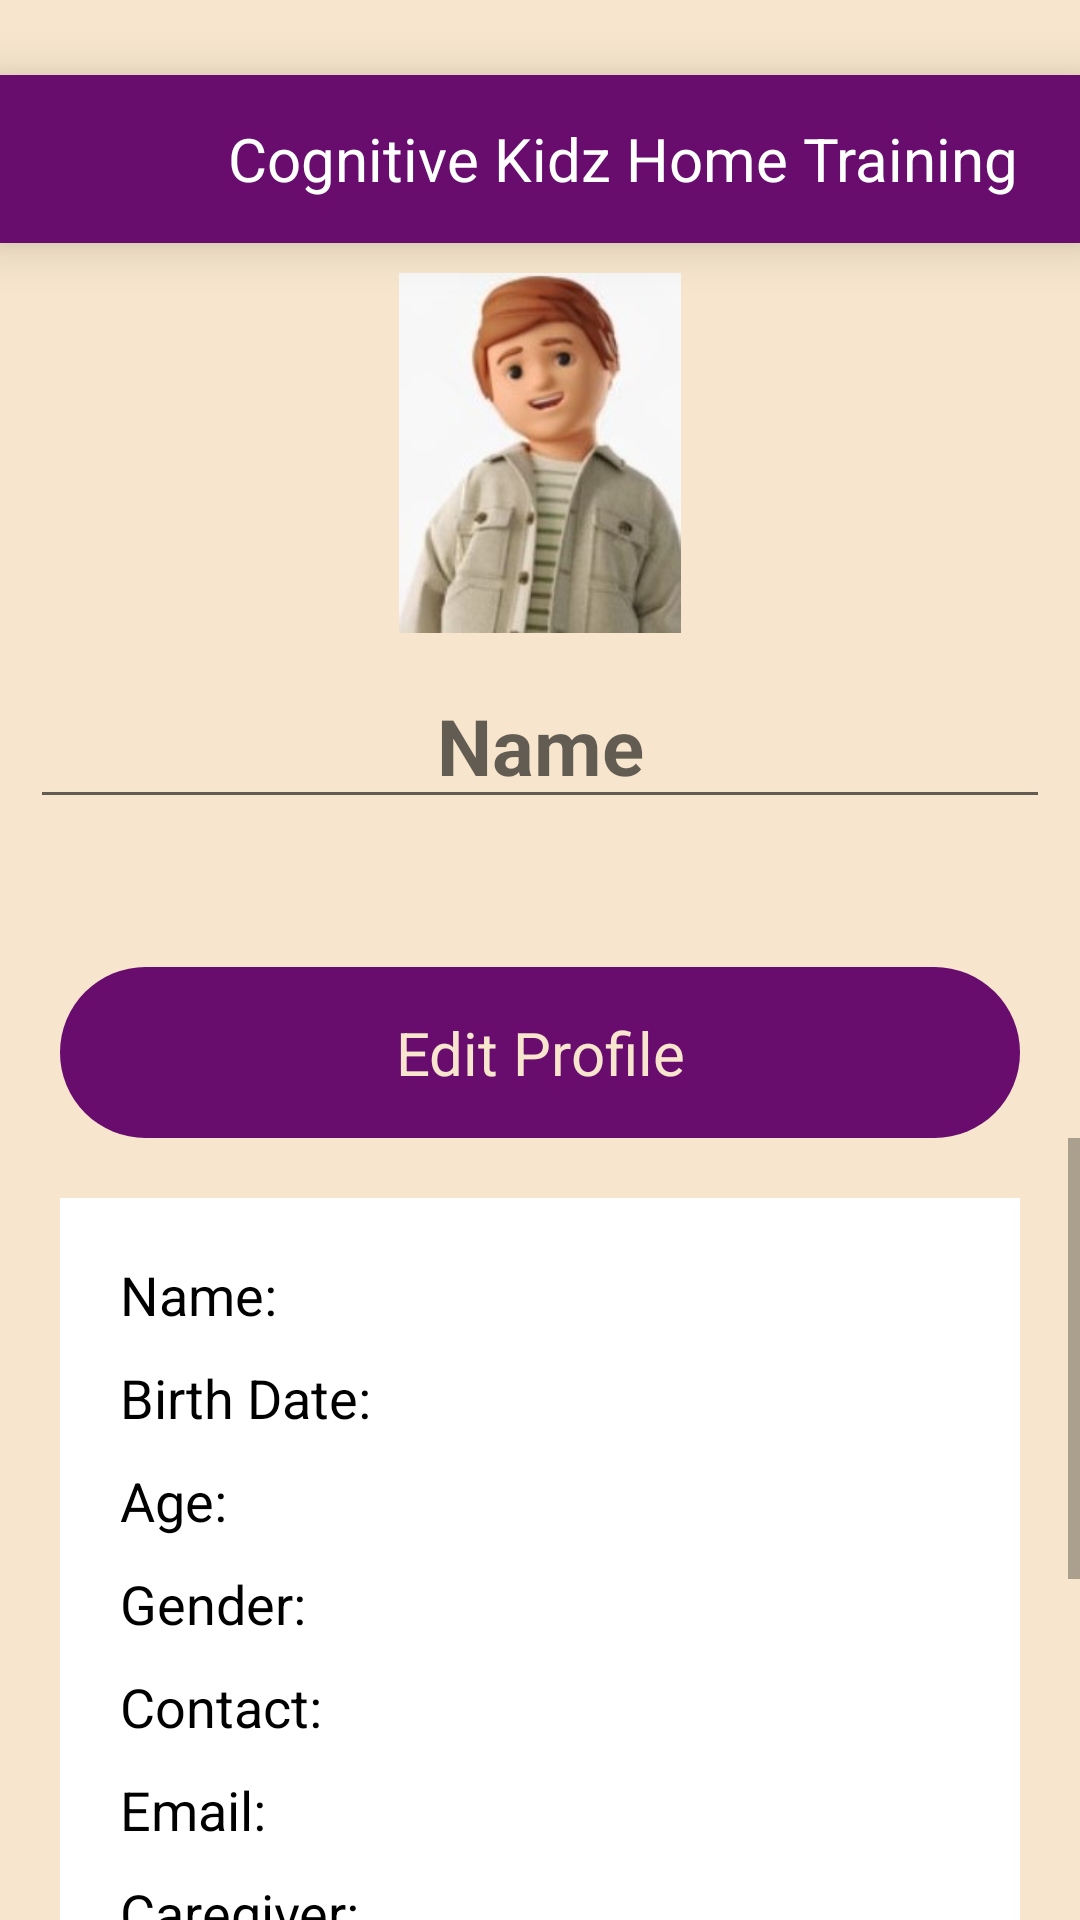

Named icons in this screenshot (1080*1920) and their centers, (x=x, y=y):
profile kid: (x=540, y=453)
